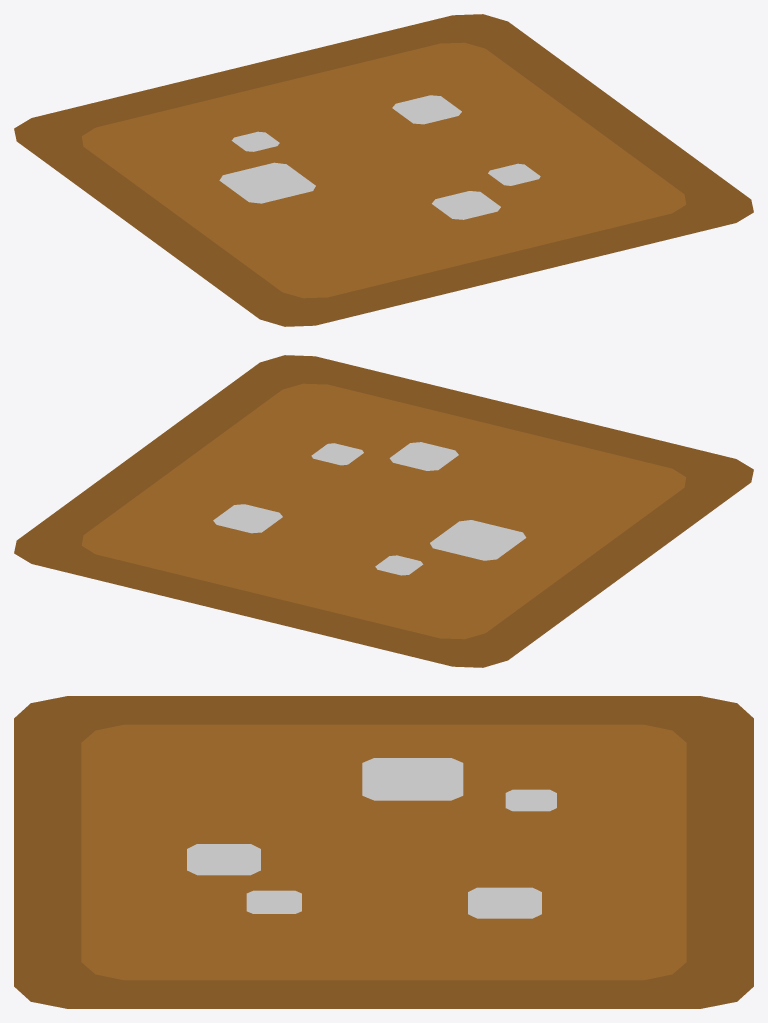
The model's file is BC_cookrecipe_00.fbx.
3 renders of one model, top to bottom at view 1: azimuth 30°, elevation 25°; view 2: azimuth 150°, elevation 25°; view 3: azimuth 270°, elevation 25°, orthographic. The views are drawn at different scales.
Parts seen in each view (by area): view 1: base, boko, boko2, boko1, boko48, boko47; view 2: base, boko, boko2, boko1, boko48, boko47; view 3: base, boko, boko2, boko1, boko48, boko47.
Part boxes in pixels (x1,y1,x2,y2): base: [14, 14, 753, 326]; boko: [219, 162, 315, 203]; boko2: [392, 95, 461, 124]; boko1: [432, 191, 500, 219]; boko48: [488, 163, 540, 185]; boko47: [231, 131, 279, 151]; base: [14, 355, 753, 667]; boko: [430, 520, 526, 560]; boko2: [213, 504, 282, 533]; boko1: [389, 442, 458, 470]; boko48: [311, 443, 363, 465]; boko47: [375, 555, 423, 575]; base: [14, 696, 753, 1008]; boko: [362, 758, 463, 800]; boko2: [468, 887, 541, 918]; boko1: [187, 844, 260, 875]; boko48: [246, 890, 301, 913]; boko47: [505, 789, 556, 811].
Bounding box in the file's own units: 3.5 × 0.033 × 3.5.
